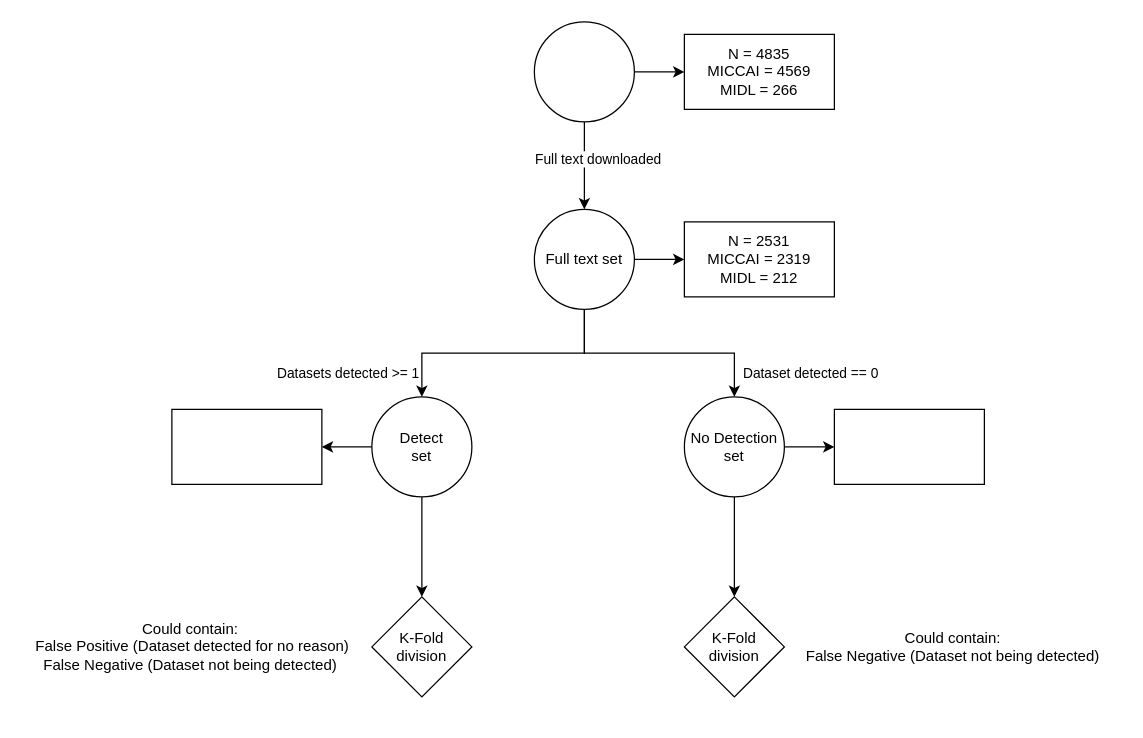
Image size: 1143x738. Some labels were removed from this diagram. The box of each missing label's shape, as (x1, y1, x2, y2) in pixels:
All papers from MICCAI and MIDL: (533, 21, 634, 122)
N = 2230 MICCAI = 2068 MIDL = 162: (833, 408, 984, 484)
N = 301 MICCAI = 251 MIDL = 50: (171, 408, 322, 484)
